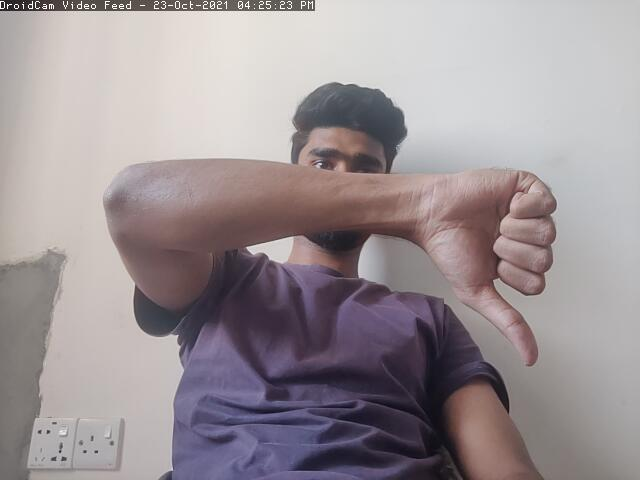ThumbsDown: (437, 151, 561, 367)
